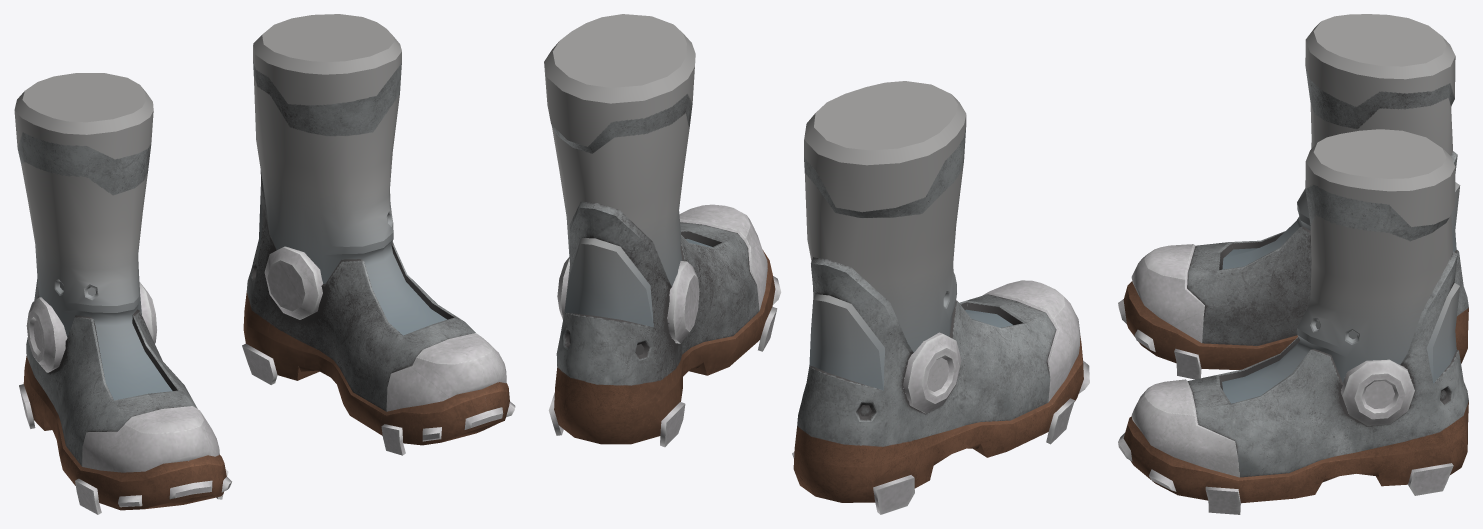
File: RangersDelEspace.fbx
The picture shows the model from 3 angles, left to right: view 1: azimuth 30°, elevation 25°; view 2: azimuth 150°, elevation 25°; view 3: azimuth 270°, elevation 25°; orthographic projection. The views are drawn at different scales.
Visible parts, largest first — view 1: Chaussu.001, Chaussu; view 2: Chaussu, Chaussu.001; view 3: Chaussu.001, Chaussu.
Part boxes in pixels (x1,y1,x2,y2): Chaussu.001: [242, 14, 515, 455]; Chaussu: [14, 73, 231, 514]; Chaussu: [792, 81, 1089, 514]; Chaussu.001: [544, 14, 781, 447]; Chaussu.001: [1118, 129, 1468, 514]; Chaussu: [1118, 14, 1468, 379].
Size of the model in its own units: 43.85 by 34.72 by 33.53.
